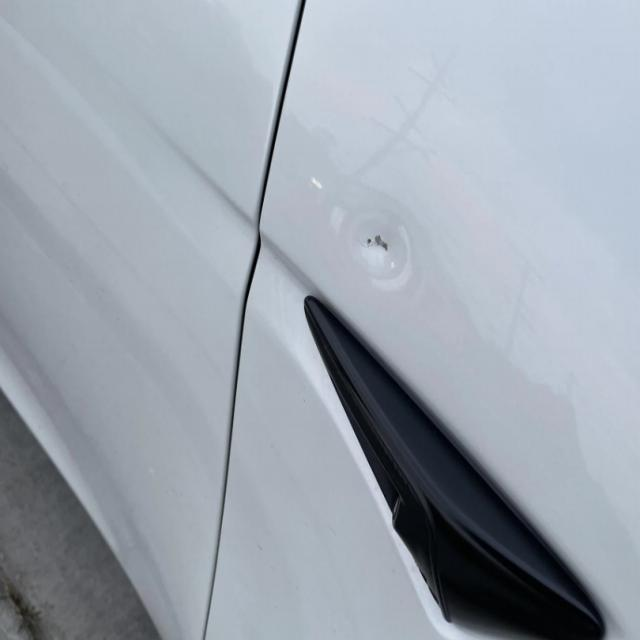dents: (332, 189, 437, 310)
